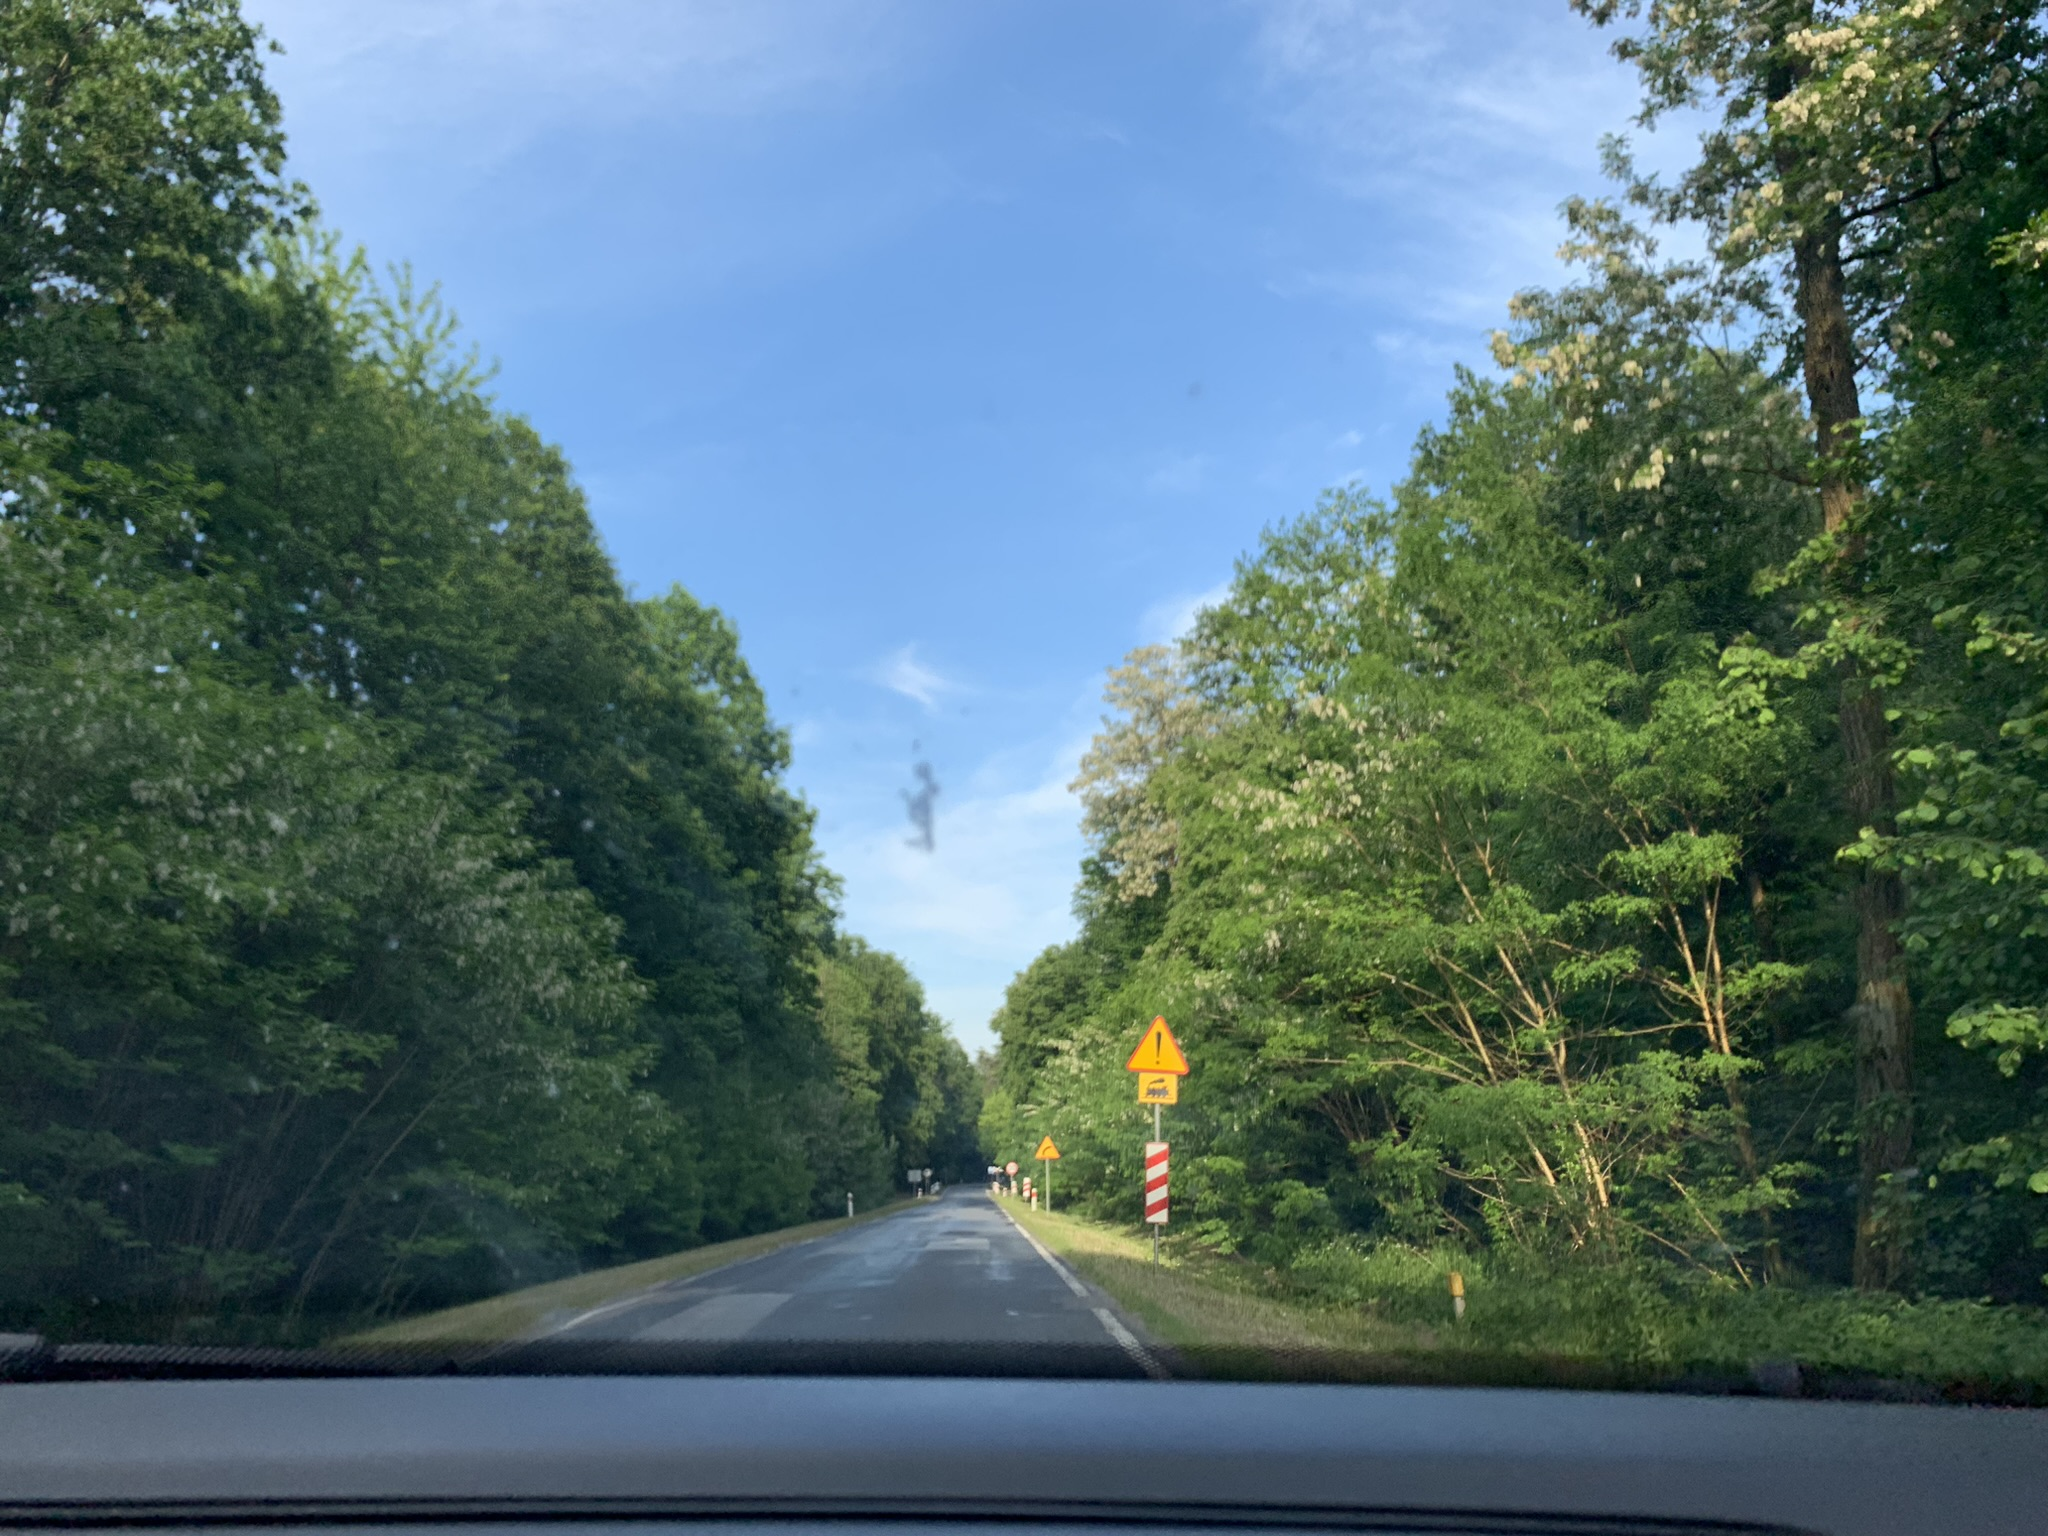a10: (1140, 1075, 1177, 1104)
